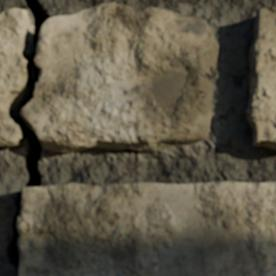brick: (18, 182, 275, 275), (247, 8, 275, 149)
broken_brick: (23, 3, 219, 153), (0, 8, 28, 104), (0, 109, 26, 150)
crack: (0, 0, 52, 274)
